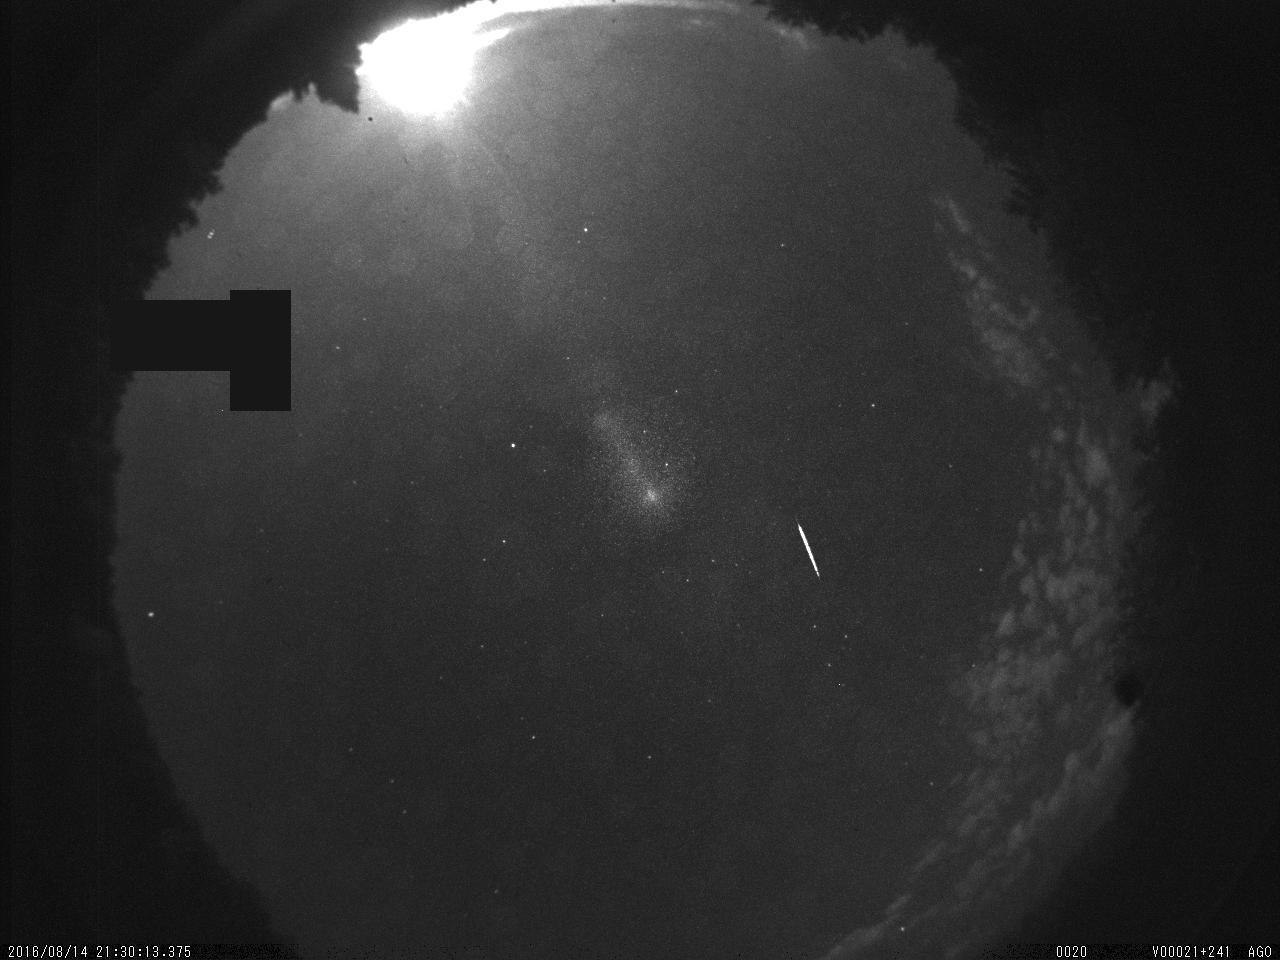Meteor: (792, 512, 829, 590)
